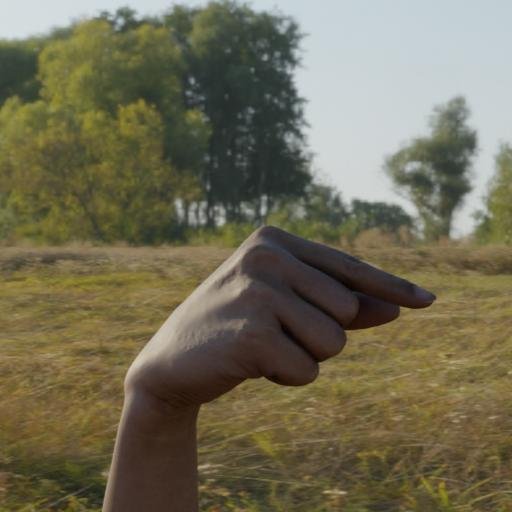G: (112, 201, 442, 451)
